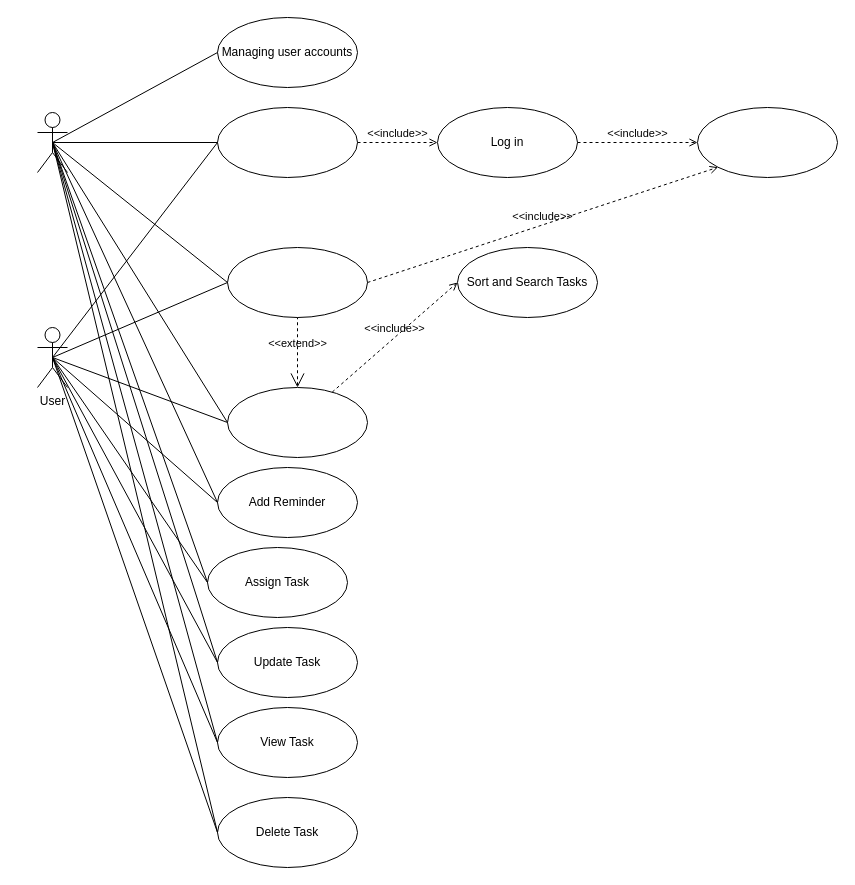
The diagram is 855 pixels wide and 885 high, and some of its shapes have lost their labels. Here are the shapes that lost their labels. From the top down, the box of each, then its label:
(36, 112, 68, 172): Administrator
(216, 106, 358, 178): Mark Task as Complete
(696, 106, 838, 178): Register
(226, 246, 368, 318): Create Task
(226, 386, 368, 458): View Task list
